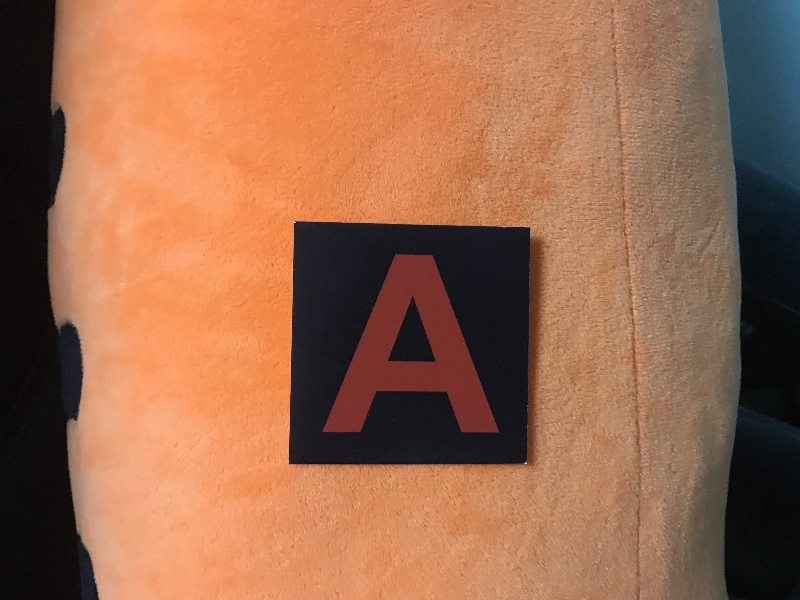A-11: (296, 223, 527, 464)
